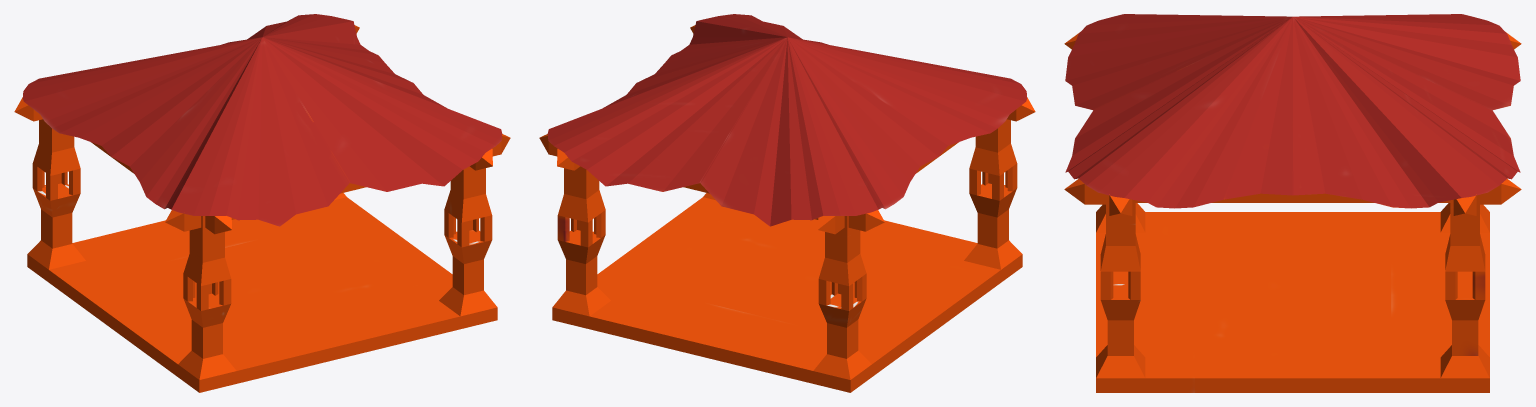
File: Headquarter.fbx
The picture shows the model from 3 angles, left to right: view 1: azimuth 30°, elevation 25°; view 2: azimuth 150°, elevation 25°; view 3: azimuth 270°, elevation 25°; orthographic projection. The views are drawn at different scales.
Parts seen in each view (by area): view 1: Headquarter; view 2: Headquarter; view 3: Headquarter.
Boxes of the visible parts, x1=… form: Headquarter: x1=14, y1=14, x2=510, y2=392; Headquarter: x1=539, y1=14, x2=1035, y2=392; Headquarter: x1=1064, y1=14, x2=1521, y2=392.
Bounding box in the file's own units: 580 × 411 × 581.
Materials: 1 (1 with a texture image).
